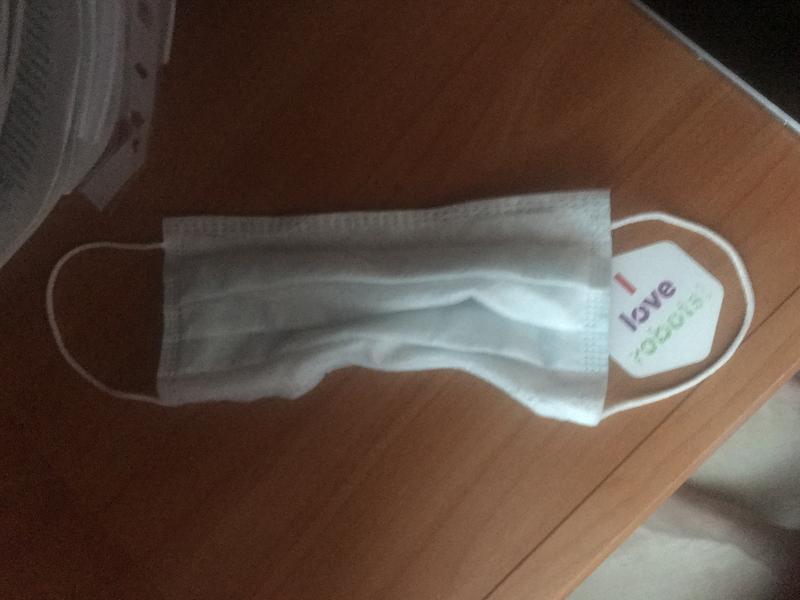medical_mask: (49, 188, 753, 431)
